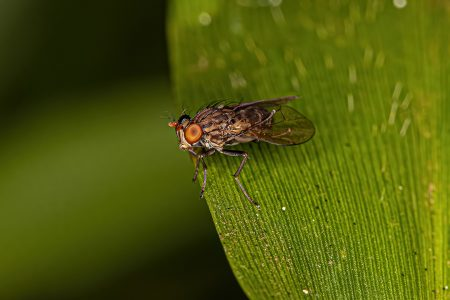Ephydridae: (159, 93, 312, 205)
